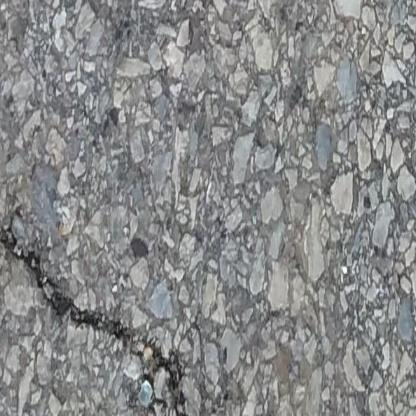Cracks: (0, 214, 204, 416)
